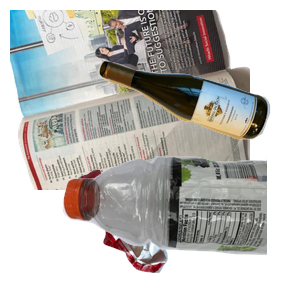glass: (95, 57, 300, 189)
paper: (10, 10, 250, 190)
plastic: (60, 152, 300, 300)
trash: (74, 167, 235, 300)
